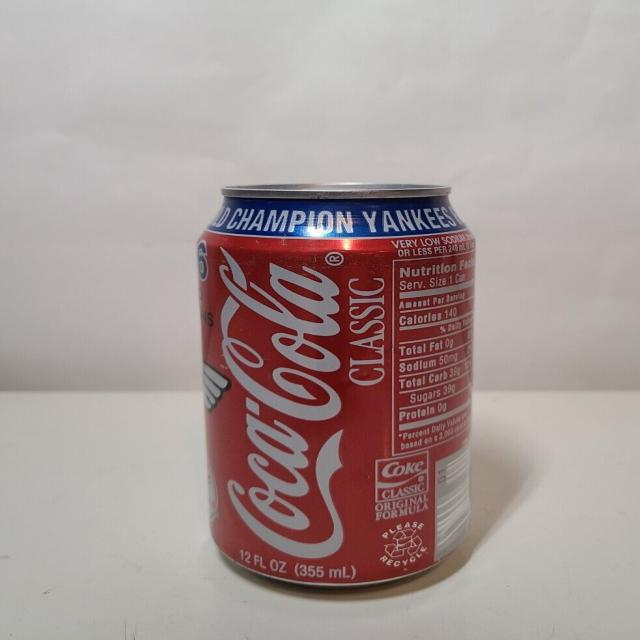can: (196, 181, 480, 592)
